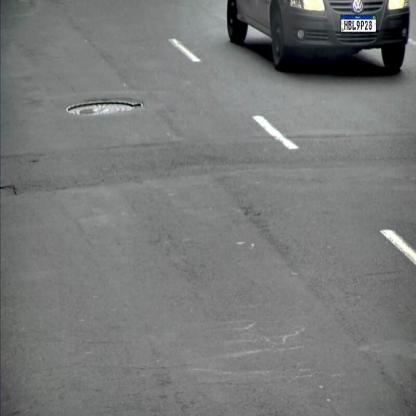PlacaM: (340, 14, 376, 32)
